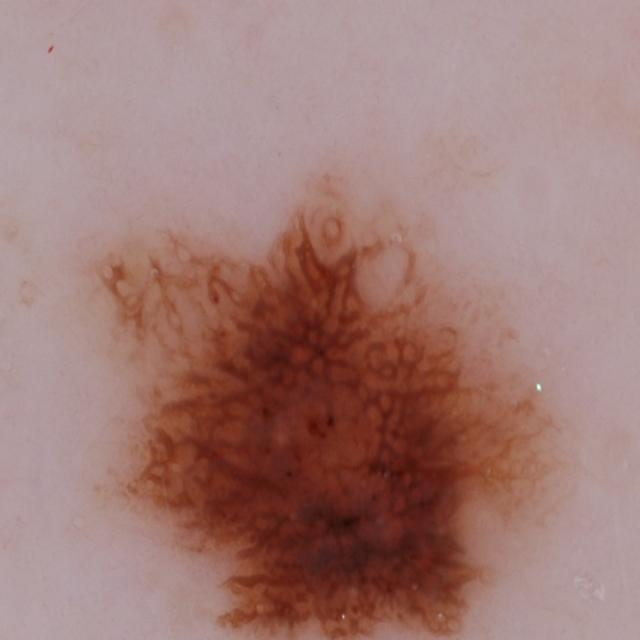Melanoma: (65, 128, 600, 640)
